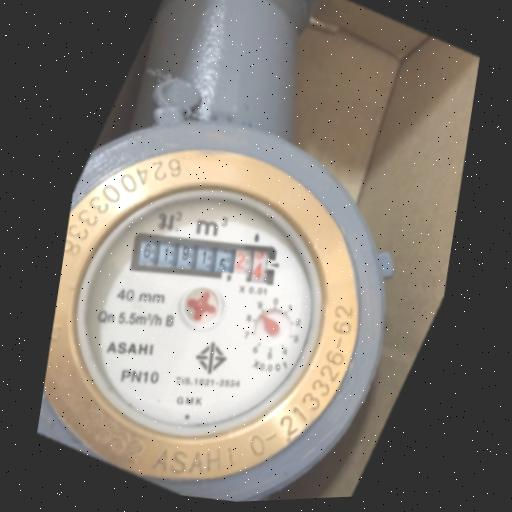1: (157, 241, 175, 267), (195, 245, 212, 270)
2: (233, 249, 249, 275)
4: (250, 249, 268, 281)
5: (215, 248, 232, 273)
6: (137, 239, 155, 266)
9: (176, 244, 193, 269)
border_water_meter_number: (129, 224, 280, 294)
